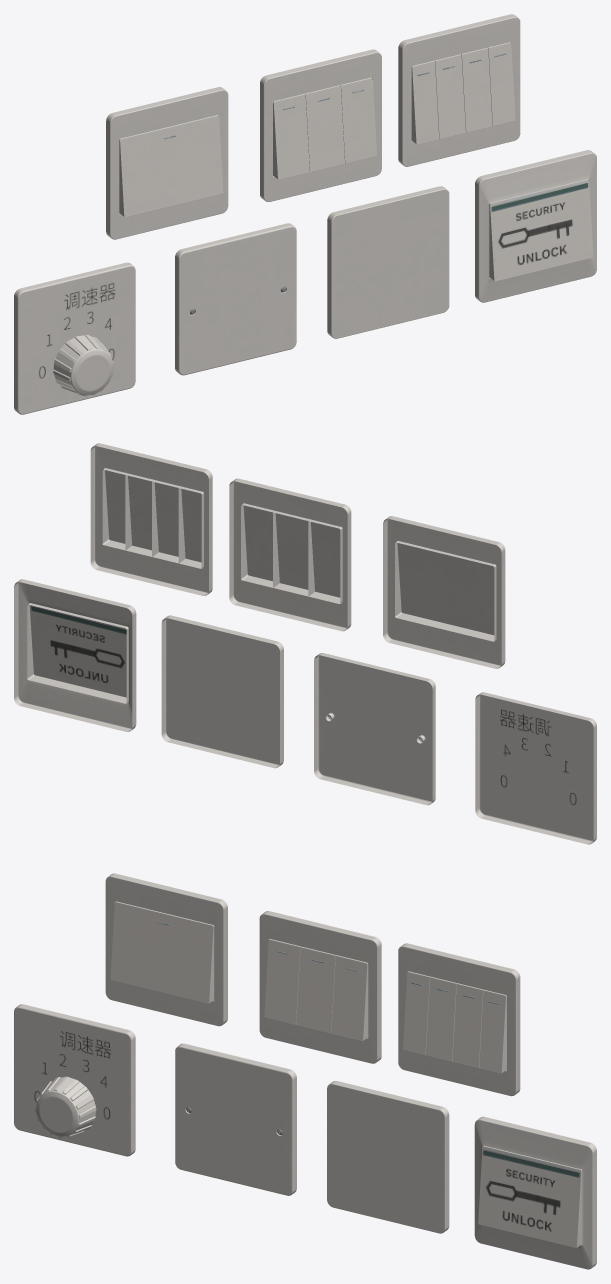
The model's file is switches.glb.
3 renders of one model, top to bottom at view 1: azimuth 30°, elevation 25°; view 2: azimuth 150°, elevation 25°; view 3: azimuth 330°, elevation 25°, orthographic.
Visible parts, largest first — view 1: 2, 0, 1, 4, 3, 6, 5; view 2: 2, 0, 1, 3, 4, 6, 5; view 3: 3, 0, 4, 1, 2, 5, 6.
Boxes of the visible parts, x1,y1,x2,y2 form: 2: (106, 87, 228, 239); 0: (398, 14, 520, 166); 1: (327, 186, 449, 338); 4: (475, 150, 596, 302); 3: (260, 49, 381, 201); 6: (14, 262, 135, 414); 5: (175, 223, 296, 375); 2: (383, 516, 505, 668); 0: (90, 443, 212, 595); 1: (161, 615, 283, 768); 3: (229, 478, 351, 631); 4: (14, 579, 136, 731); 6: (475, 692, 596, 844); 5: (314, 653, 435, 805); 3: (259, 911, 381, 1063); 0: (398, 943, 520, 1096); 4: (474, 1116, 596, 1269); 1: (327, 1081, 449, 1233); 2: (105, 873, 227, 1026); 5: (175, 1043, 296, 1195); 6: (14, 1004, 135, 1156).
Bounding box in the file's own units: 0.421 × 0.1934 × 0.0254.
1 material, 1 textured.
